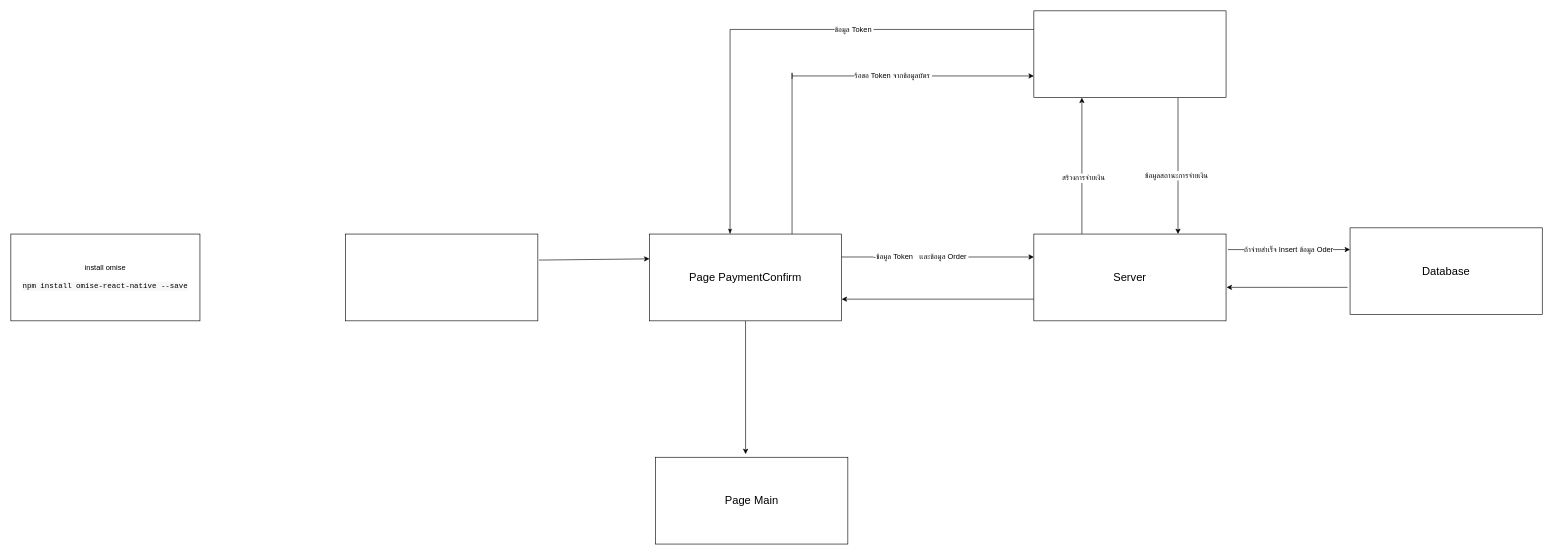
Image size: 1553x555. Some labels were removed from this diagram. The centre of each missing label's shape, as x and y in pixels:
Omise: (x=1129, y=54)
Page Payment: (x=441, y=277)
